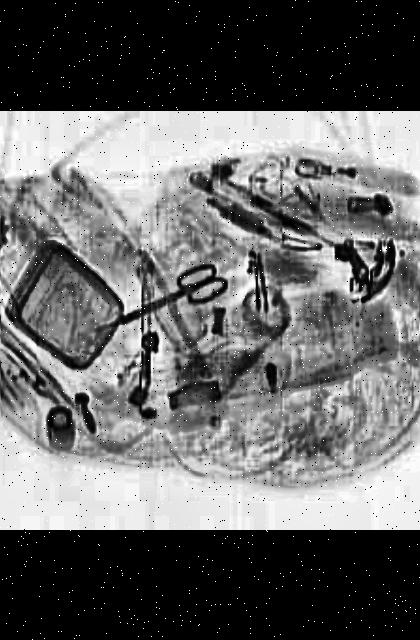Scissors: (106, 256, 238, 334)
